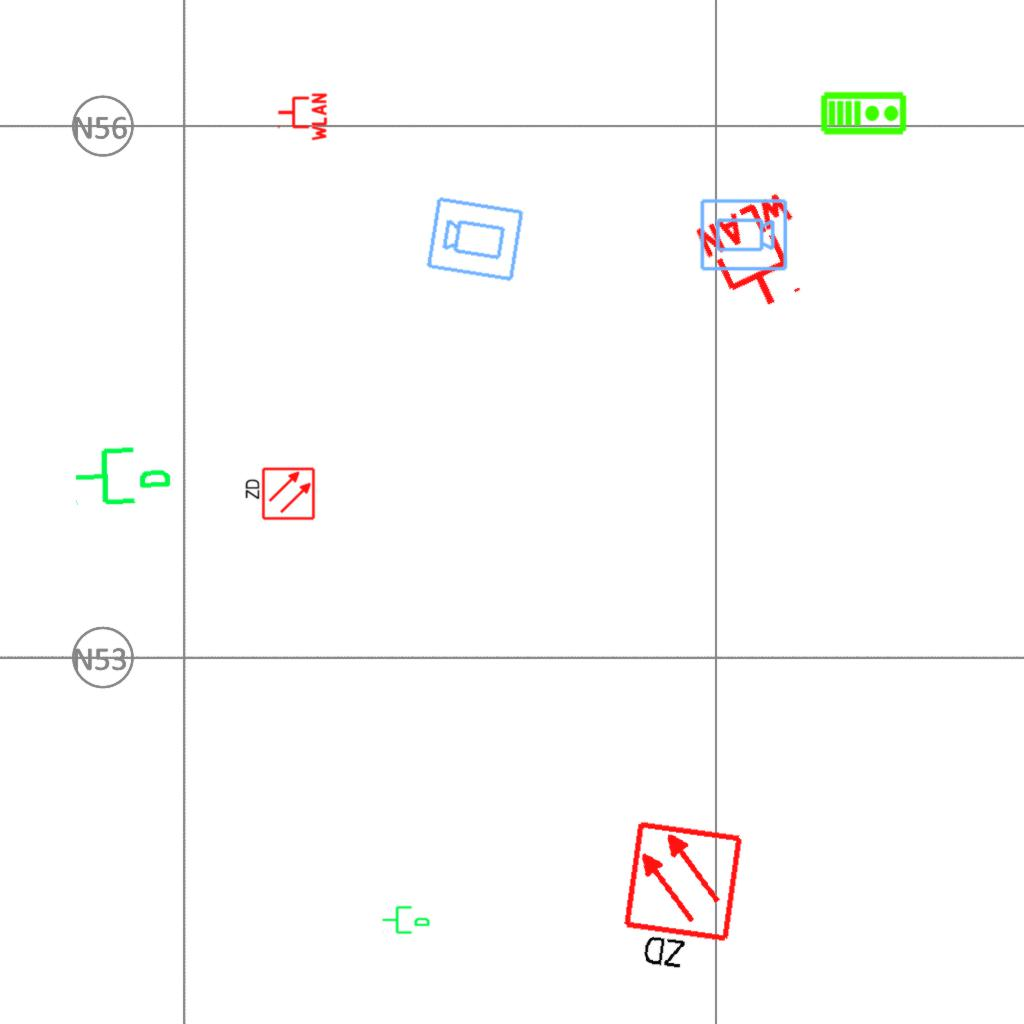Datenanschluss_einfach: (71, 437, 174, 511), (381, 902, 431, 936)
Gegensprechanlage_mit_Video: (820, 89, 908, 136)
KFO_Kamera_mit_Festobjektiv: (424, 193, 527, 284), (698, 197, 789, 274)
WLAN: (690, 186, 829, 326), (276, 91, 328, 143)
ZD_Melder_in_Zwischendecke_mit_Revisionsoeffnung_mind_40_x_40_cm: (615, 818, 749, 983), (242, 466, 316, 523)
